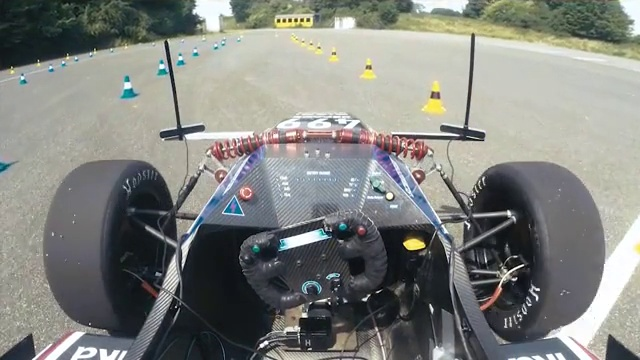Cone: (421, 80, 449, 116), (121, 75, 137, 99), (361, 57, 377, 79)
